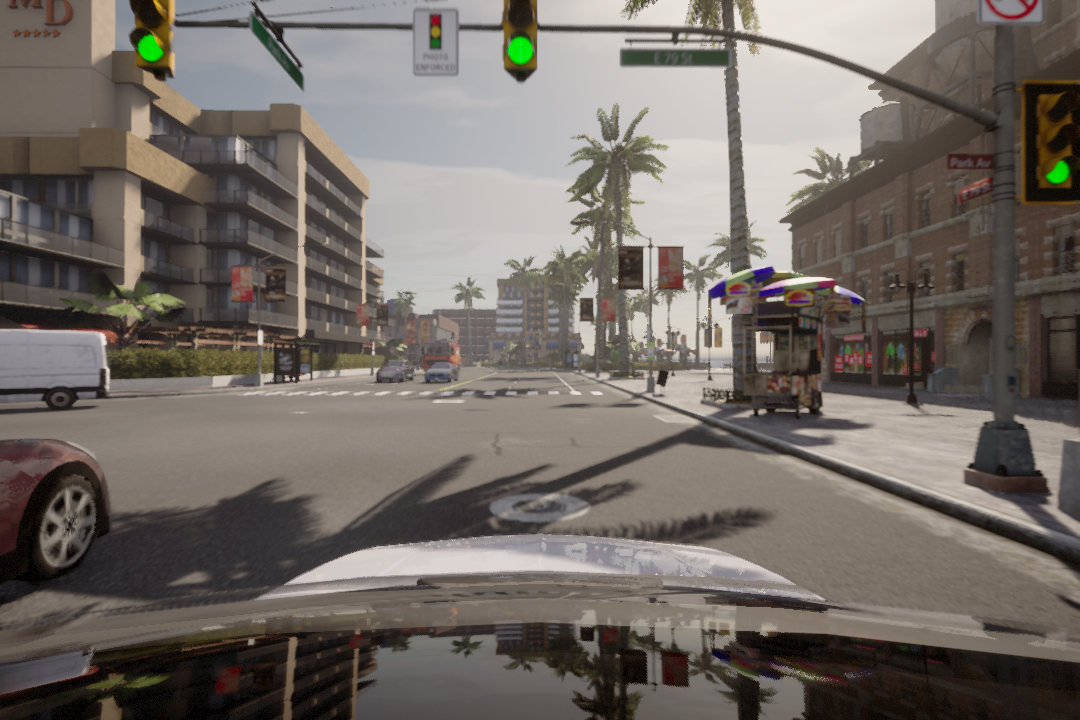TrafficLight: (1030, 81, 1080, 200), (129, 1, 177, 74), (501, 1, 534, 72)
walkside: (230, 387, 631, 400)
